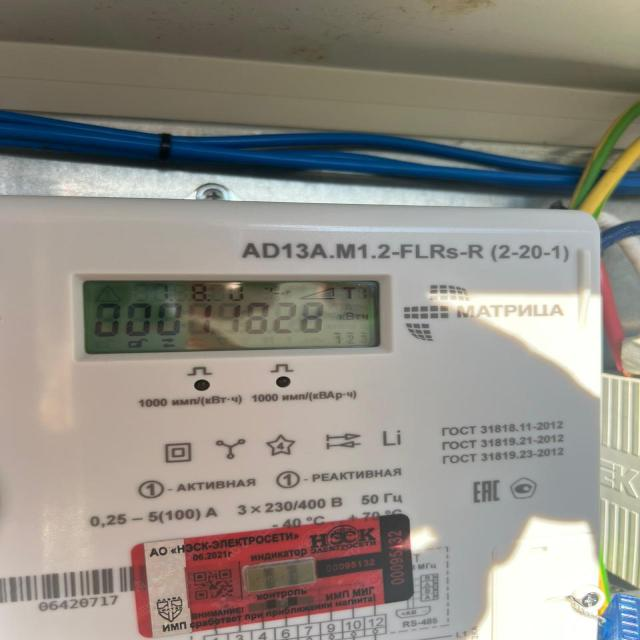Display: (80, 276, 383, 355)
meter_matrica: (0, 205, 597, 640)
meter_number: (1, 562, 153, 621)
seal_imp: (131, 511, 417, 640)
